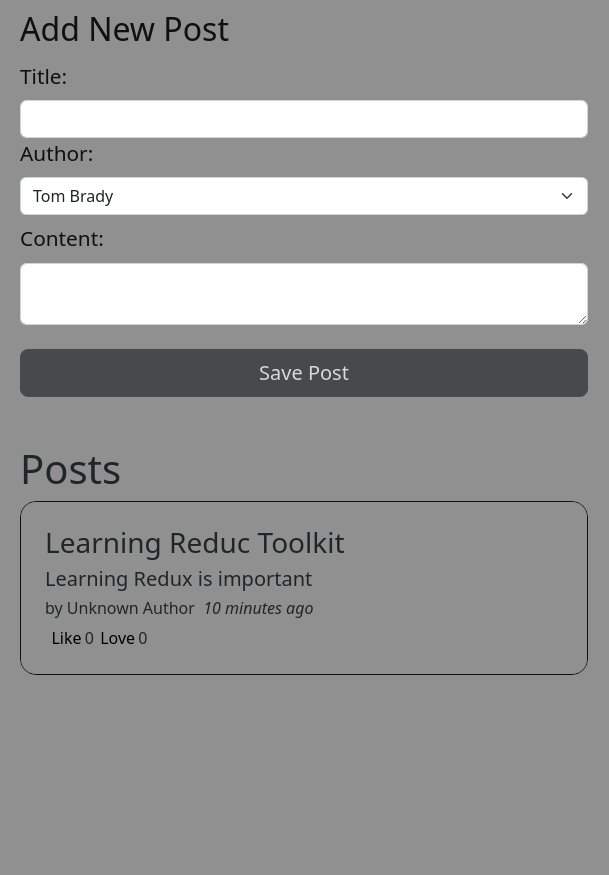
Scenario: PostForm › should render test post
Step 1. Type "hello world" into the field with test id "postTitle" → (304, 119), box [20,100,588,138]
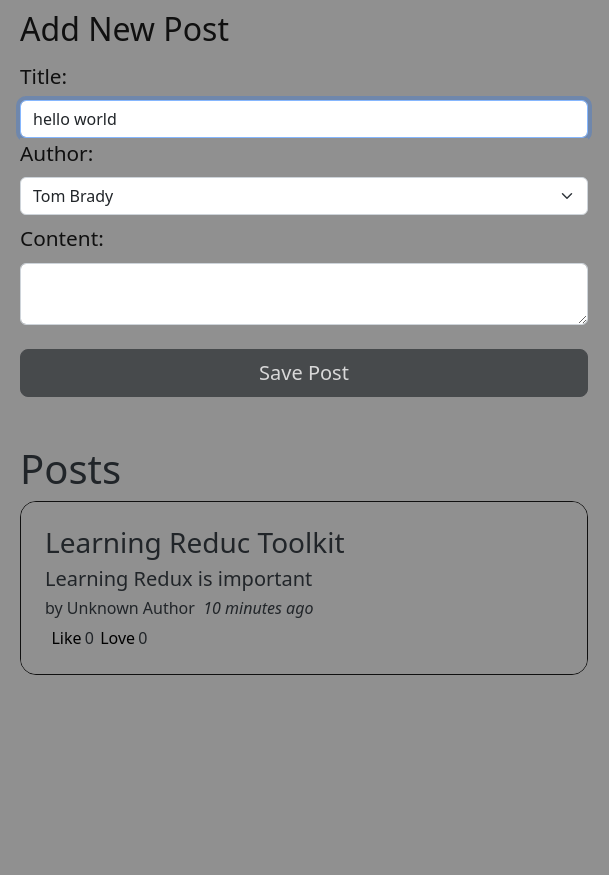
Step 2. Select "Kevin Durant" in the dropdown → (304, 196), box [20,177,588,215]
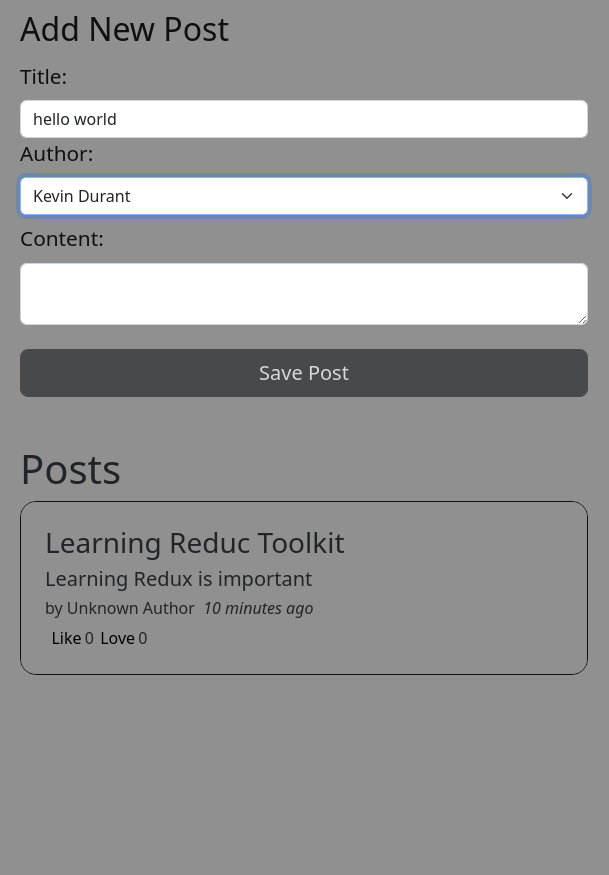
Step 3. Type "how are you doing" into the text box with test id "postContent" → (304, 294), box [20,263,588,325]
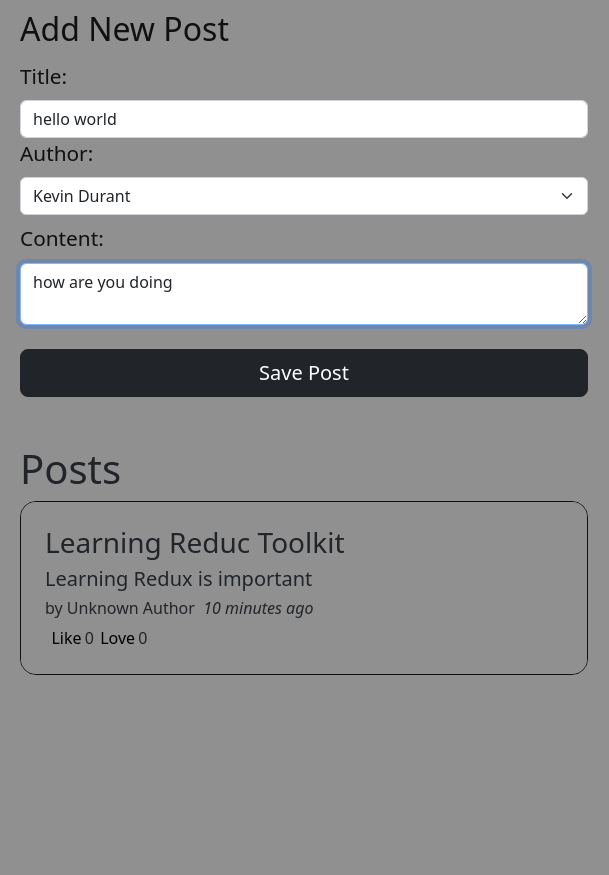
Step 4. Click the button with test id "button" → (304, 373), box [20,349,588,397]
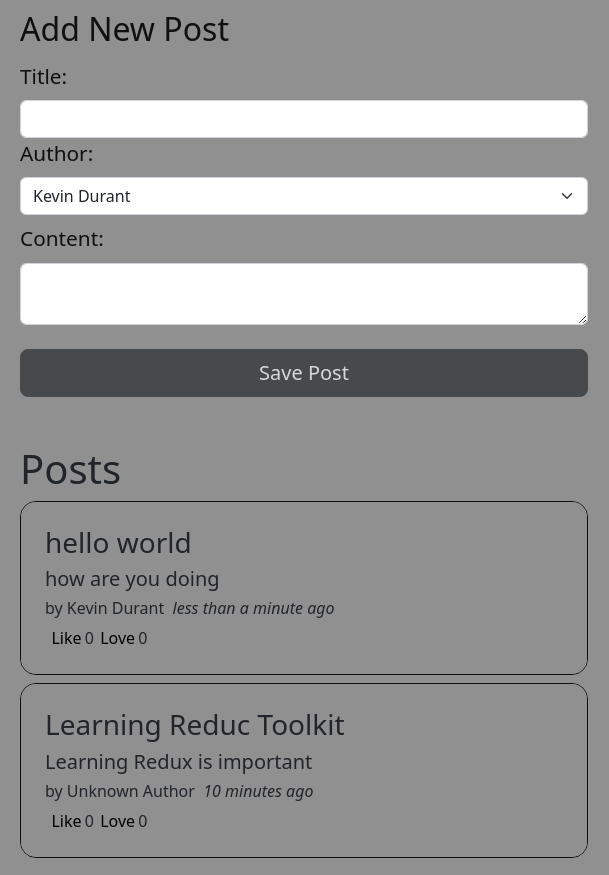
Result: the heading "hello world" is shown at [45,526,563,559]
Result: the text "by Kevin Durant" is shown at [45,597,164,619]
Result: the heading "how are you doing" is shown at [45,567,563,591]
